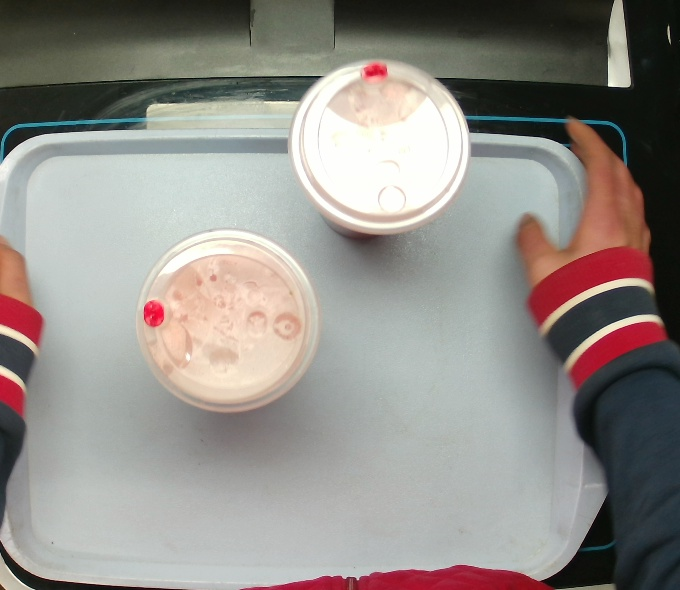wcq-XiGuaZhi: (132, 224, 324, 418), (284, 55, 473, 242)
